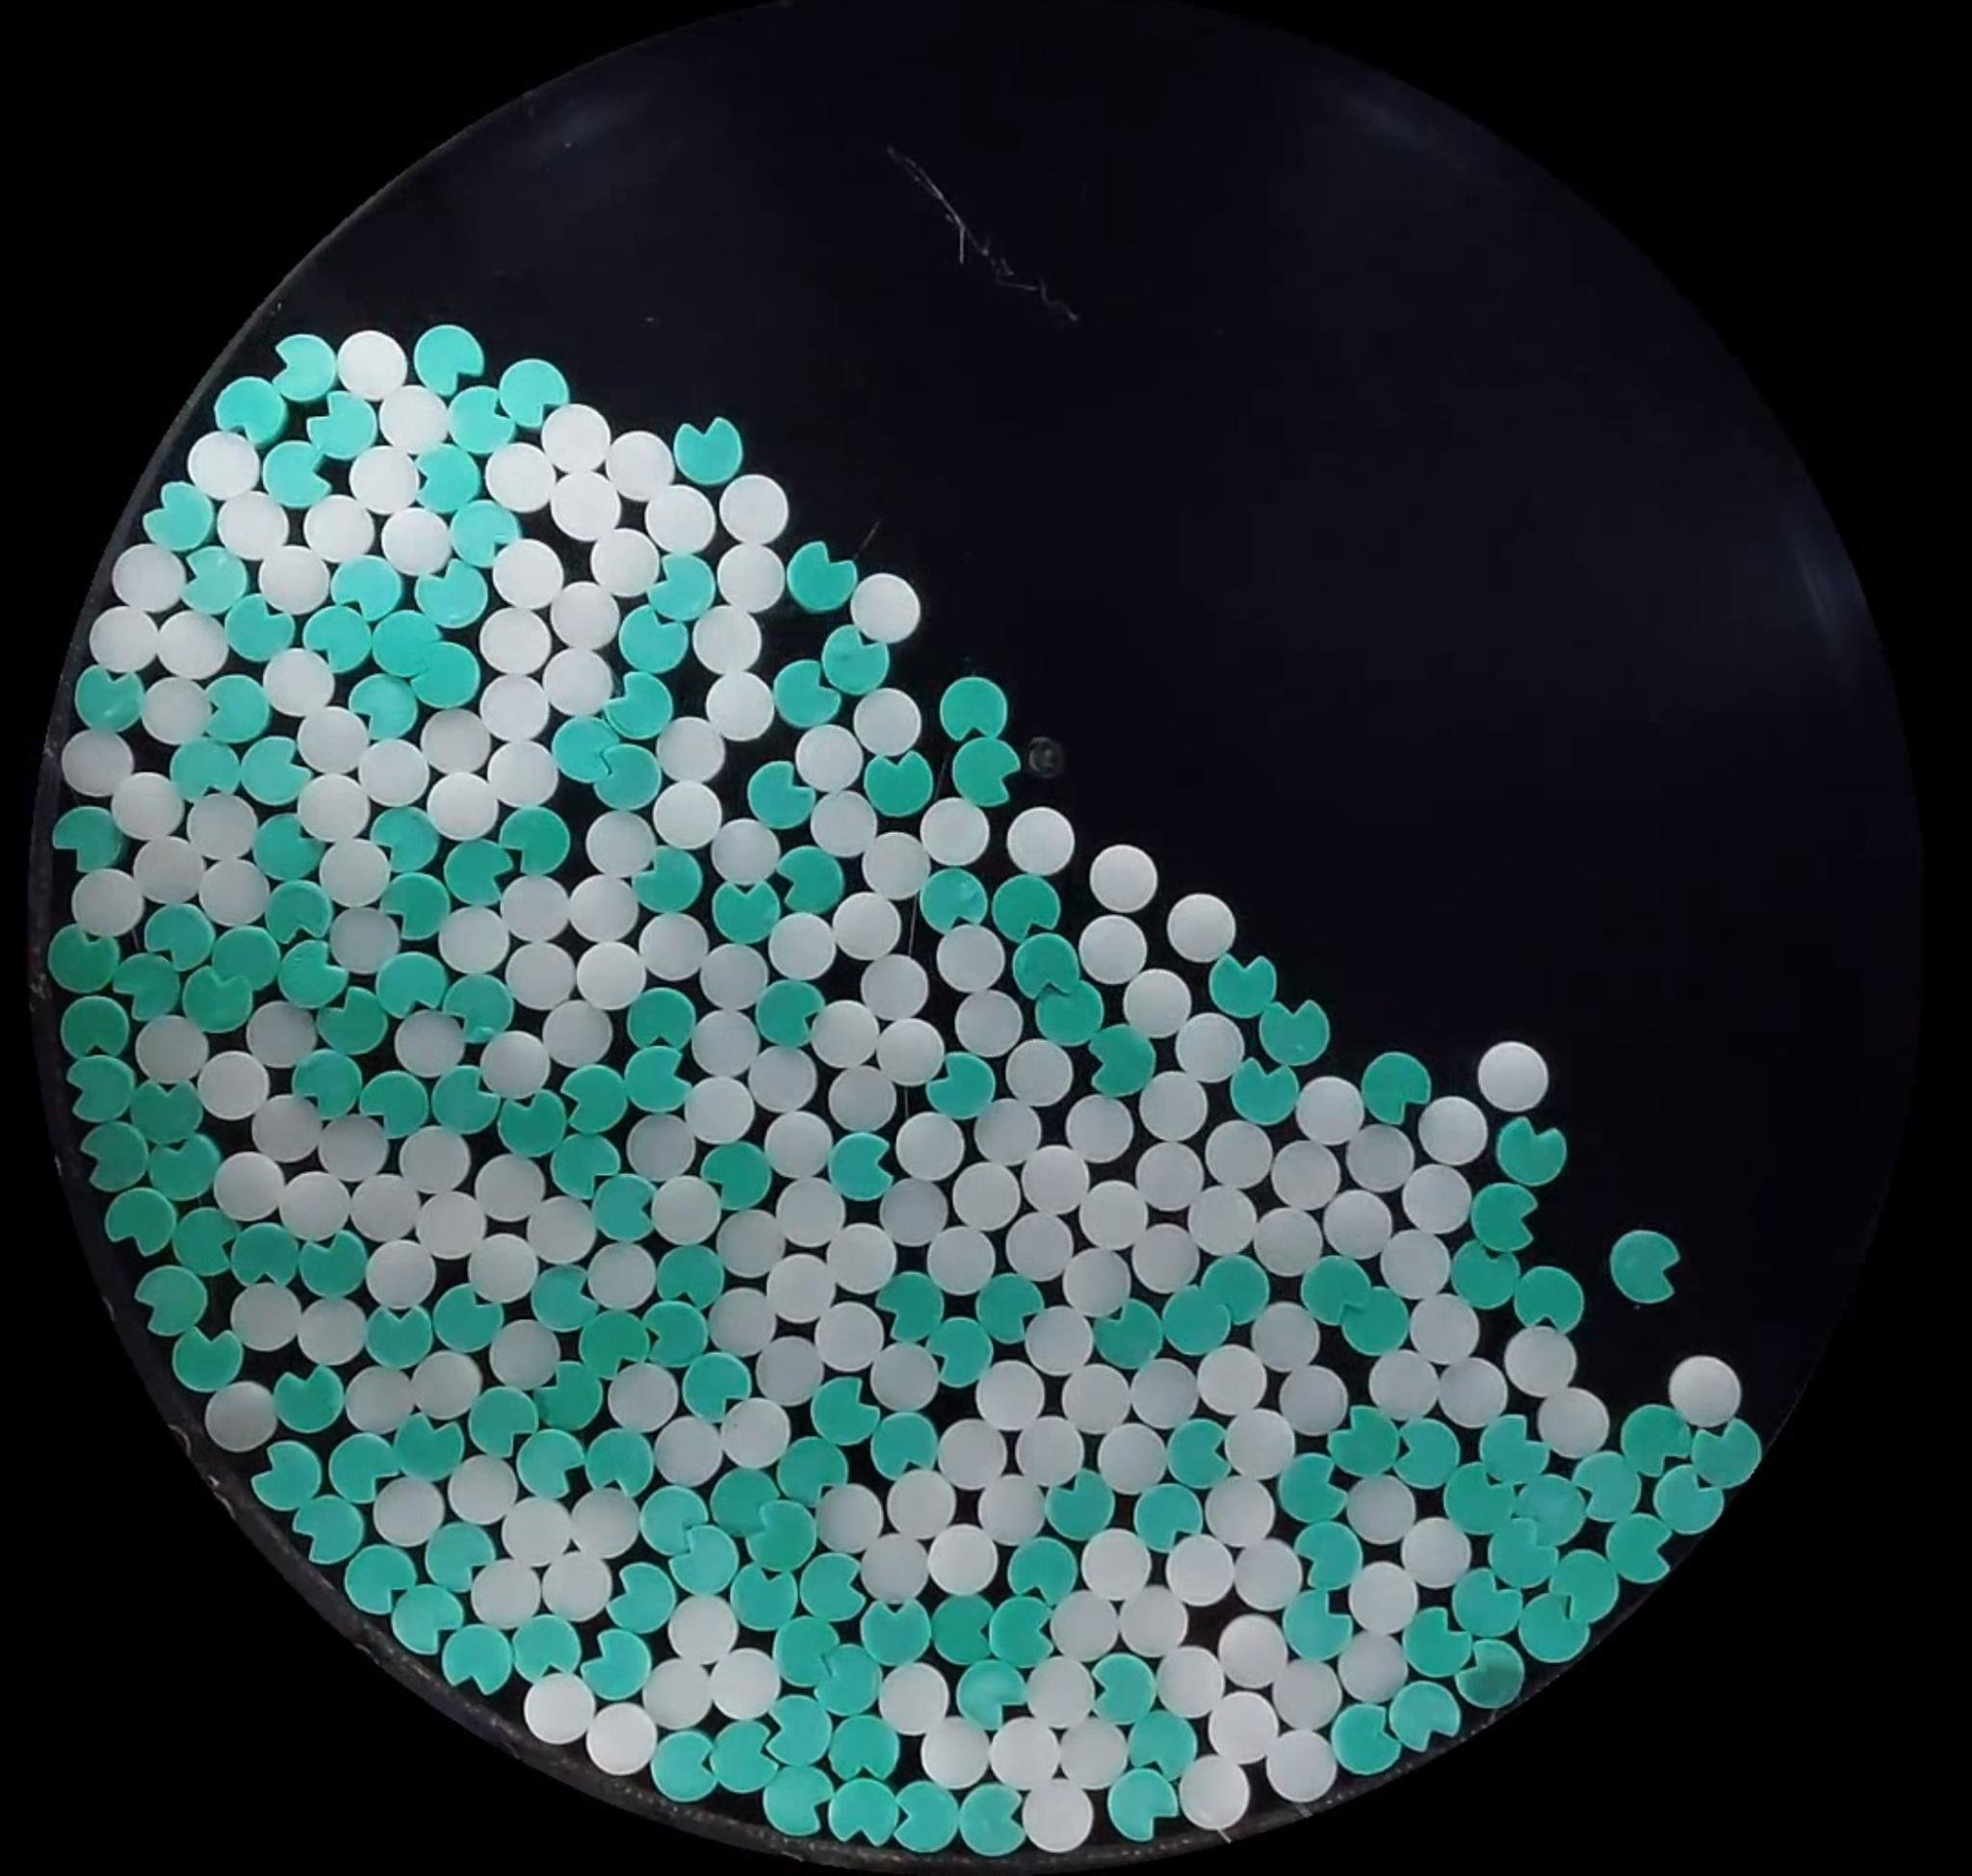no-convexa1: (1326, 1402, 1407, 1487), (106, 941, 187, 1023), (533, 1122, 618, 1200), (764, 1427, 847, 1504), (363, 803, 447, 877), (426, 1060, 500, 1145), (236, 728, 313, 807), (222, 1217, 301, 1295), (1002, 1533, 1081, 1610), (1093, 1298, 1169, 1379), (928, 1312, 1002, 1395), (1389, 1409, 1461, 1494), (283, 1494, 364, 1568), (1444, 1238, 1525, 1312), (438, 965, 516, 1041), (706, 1453, 780, 1533), (1037, 1466, 1116, 1540), (673, 1517, 743, 1599), (162, 733, 246, 801), (245, 812, 329, 881), (176, 541, 254, 615), (357, 1071, 435, 1145), (1477, 1414, 1556, 1487), (1160, 1423, 1241, 1494), (389, 1584, 463, 1659), (583, 1170, 659, 1244), (1287, 1515, 1361, 1591), (579, 1307, 657, 1379), (1035, 976, 1113, 1048), (981, 1268, 1051, 1348), (734, 1497, 813, 1568), (810, 1370, 880, 1450), (252, 1439, 326, 1513), (495, 1087, 569, 1161), (1277, 1450, 1350, 1524), (467, 1385, 539, 1460), (1511, 1474, 1586, 1547), (951, 1654, 1026, 1726), (1486, 1515, 1562, 1587), (1199, 1256, 1277, 1326), (1285, 1587, 1354, 1666), (442, 1622, 514, 1696), (343, 1543, 416, 1617), (65, 1053, 139, 1126), (129, 1078, 202, 1150), (79, 1120, 151, 1194), (144, 481, 218, 553), (1609, 1230, 1681, 1304), (398, 1409, 472, 1481), (699, 1141, 775, 1212), (768, 1617, 838, 1693), (1442, 1459, 1507, 1540), (1125, 1710, 1197, 1783), (278, 939, 350, 1011), (1387, 1679, 1460, 1751), (106, 1184, 178, 1256), (273, 1362, 345, 1434), (46, 923, 118, 995), (215, 375, 287, 447), (1690, 1418, 1762, 1490), (555, 1059, 627, 1131), (326, 1429, 398, 1501), (632, 1480, 704, 1552), (1107, 1769, 1178, 1843), (202, 673, 273, 747), (143, 902, 217, 972), (305, 391, 379, 462), (553, 710, 623, 784), (421, 1517, 491, 1591), (794, 1548, 868, 1619), (414, 560, 489, 629), (136, 1265, 208, 1335), (60, 992, 132, 1062), (606, 1562, 676, 1635), (498, 805, 570, 875), (1512, 1263, 1585, 1333), (298, 1230, 368, 1302), (951, 735, 1023, 805), (762, 1696, 833, 1769), (581, 1628, 651, 1700), (1162, 1286, 1234, 1356), (380, 872, 453, 942), (787, 541, 857, 613), (778, 846, 849, 918), (926, 1594, 998, 1665), (1569, 1451, 1639, 1524), (171, 1325, 245, 1393), (72, 664, 146, 733), (370, 609, 444, 678), (53, 803, 127, 872), (600, 671, 674, 740), (924, 1052, 998, 1120), (872, 1409, 946, 1478), (865, 1270, 940, 1337), (650, 1732, 720, 1802), (859, 1596, 930, 1666), (681, 1351, 752, 1422), (828, 1714, 898, 1784), (762, 1765, 833, 1835), (514, 1429, 585, 1499), (710, 1723, 780, 1793), (414, 324, 484, 395), (1331, 1703, 1402, 1774), (1622, 1402, 1692, 1473), (1231, 1057, 1301, 1127), (1088, 1025, 1159, 1096), (364, 1304, 435, 1374), (433, 1284, 504, 1355), (449, 499, 519, 569), (1497, 1117, 1567, 1187), (673, 416, 743, 486), (375, 951, 447, 1020), (988, 1596, 1056, 1668), (828, 1129, 896, 1201), (181, 964, 254, 1032), (1361, 1050, 1430, 1122), (291, 1048, 363, 1117), (408, 639, 481, 708), (1551, 1548, 1620, 1621), (958, 1784, 1026, 1855), (829, 1777, 898, 1848), (754, 978, 824, 1046), (262, 877, 333, 946), (1470, 1182, 1539, 1252), (583, 1429, 653, 1497), (764, 1762, 833, 1832), (1090, 1654, 1159, 1725), (1134, 1481, 1203, 1552), (991, 874, 1062, 942), (498, 358, 569, 426), (442, 838, 511, 909), (414, 444, 482, 514), (224, 595, 294, 664), (305, 604, 373, 675), (646, 551, 717, 620), (1261, 997, 1329, 1067), (623, 1043, 692, 1112), (634, 847, 703, 916), (1518, 1592, 1586, 1661), (713, 875, 782, 944), (1606, 1513, 1674, 1582), (262, 440, 331, 509), (938, 675, 1007, 743), (822, 627, 891, 696), (1014, 930, 1083, 999), (269, 335, 338, 403), (1210, 953, 1278, 1022), (731, 1561, 798, 1631), (865, 750, 935, 817), (618, 606, 688, 673), (331, 555, 401, 622), (1460, 1638, 1527, 1709), (657, 1244, 727, 1311), (592, 745, 664, 810), (317, 990, 389, 1055), (157, 1131, 222, 1203), (1460, 1564, 1525, 1636), (1405, 1608, 1472, 1677), (643, 1298, 710, 1367), (447, 388, 516, 454), (893, 1781, 960, 1850), (217, 921, 285, 988), (349, 673, 419, 738), (773, 661, 840, 728), (1259, 999, 1326, 1066), (1342, 1289, 1409, 1356), (1653, 1464, 1720, 1531), (748, 764, 817, 830), (627, 986, 695, 1052), (894, 1786, 960, 1855), (532, 1261, 600, 1326), (924, 867, 993, 932), (1301, 1256, 1366, 1325), (512, 1612, 574, 1682), (176, 1210, 234, 1284), (820, 1647, 882, 1716), (532, 1369, 602, 1427)
